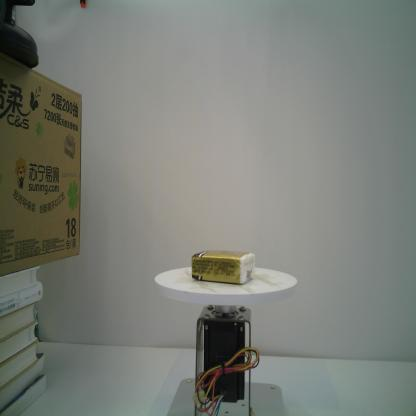Tissue: (191, 249, 257, 285)
